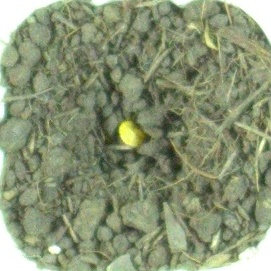chilli seed: (116, 119, 150, 149)
